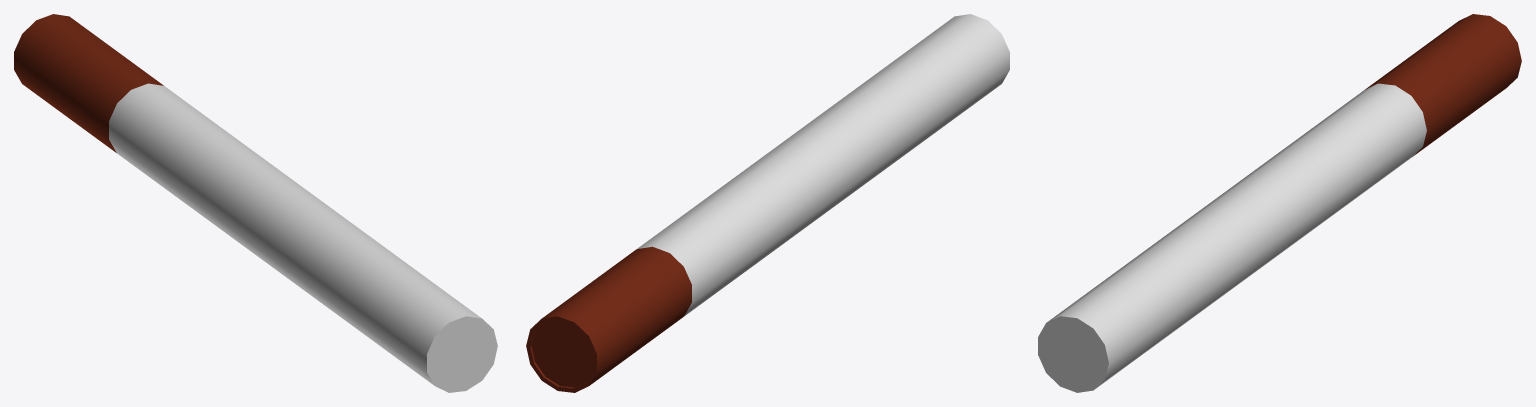
The model's file is cigarette_01.FBX.
3 renders of one model, left to right at view 1: azimuth 30°, elevation 25°; view 2: azimuth 150°, elevation 25°; view 3: azimuth 330°, elevation 25°, orthographic.
Parts seen in each view (by area): view 1: Cylinder049; view 2: Cylinder049; view 3: Cylinder049.
Part boxes in pixels (x1,y1,x2,y2): Cylinder049: (14,14,497,392); Cylinder049: (526,14,1009,392); Cylinder049: (1038,14,1521,392).
Bounding box in the file's own units: 1.83 × 1.84 × 18.45.
